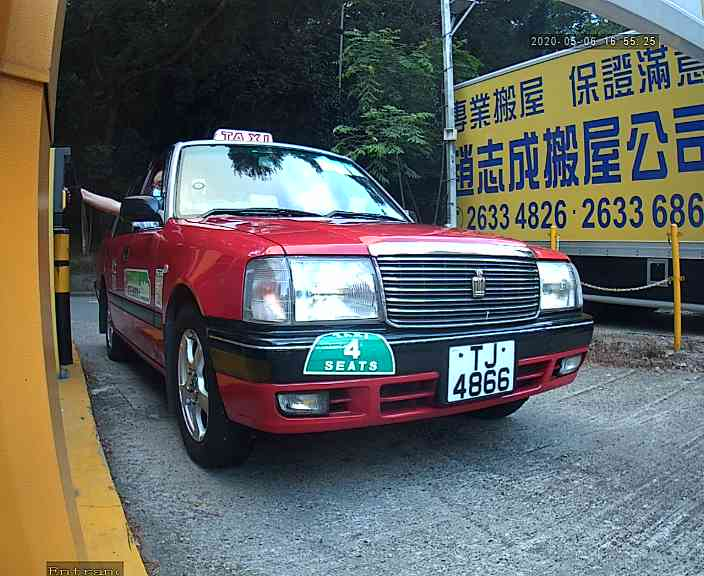taxi: (87, 119, 632, 476)
taxi_mark: (295, 317, 403, 390)
